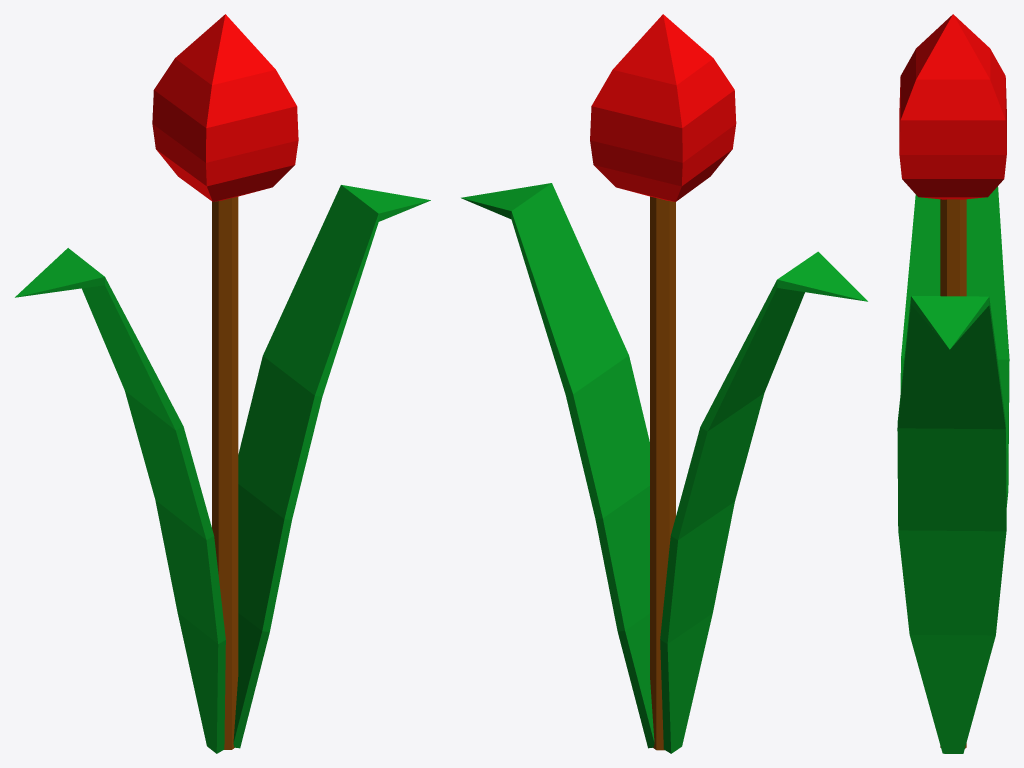
Rendered from rose.glb.
3 renders of one model, left to right at view 1: azimuth 30°, elevation 25°; view 2: azimuth 150°, elevation 25°; view 3: azimuth 270°, elevation 25°, orthographic.
Parts seen in each view (by area): view 1: Cube.031; view 2: Cube.031; view 3: Cube.031.
Boxes of the visible parts, x1,y1,x2,y2 form: Cube.031: (15, 14, 430, 753); Cube.031: (461, 14, 867, 753); Cube.031: (897, 14, 1009, 753).
Size of the model in its own units: 0.4442 by 0.7533 by 0.1041.
